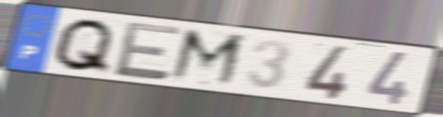3: (245, 38, 296, 92)
4: (364, 49, 411, 109), (304, 43, 352, 101)
E: (111, 19, 185, 83)
M: (165, 26, 250, 90)
Q: (49, 17, 118, 77)
